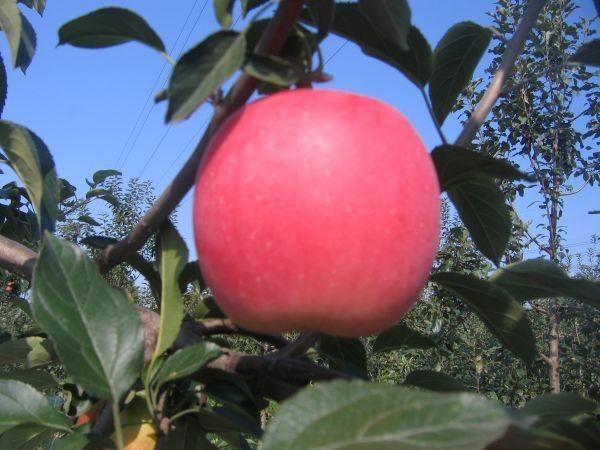apple: (189, 87, 440, 334)
